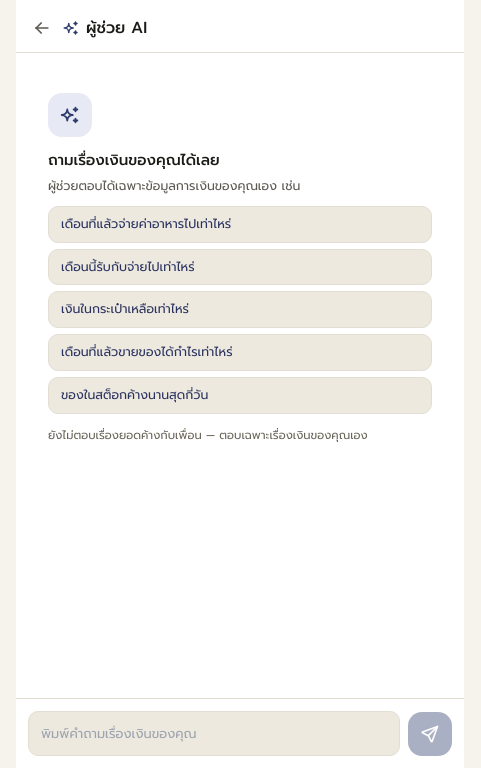
Test: bubble renders **bold** only (no raw markdown on screen) › **text** renders as <strong> with the asterisks gone
Type "q" into the text box labelled "พิมพ์คำถาม" at (214, 733), box [28,710,400,756]
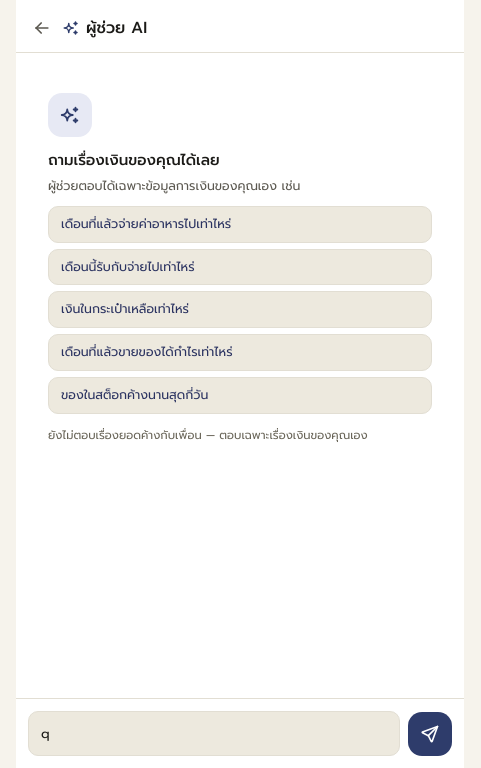
Click the button named "ส่งคำถาม" at (430, 734), box [408,712,452,756]
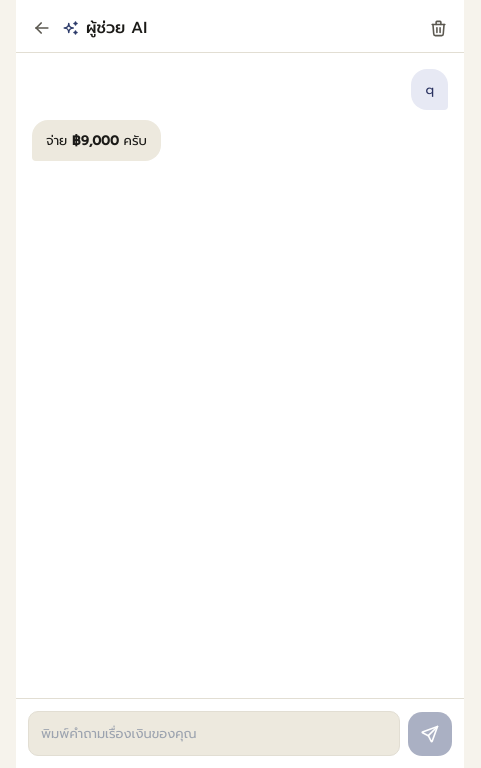
Now the element showing "จ่าย ฿9,000 ครับ" is shown, box [32,120,161,161]
